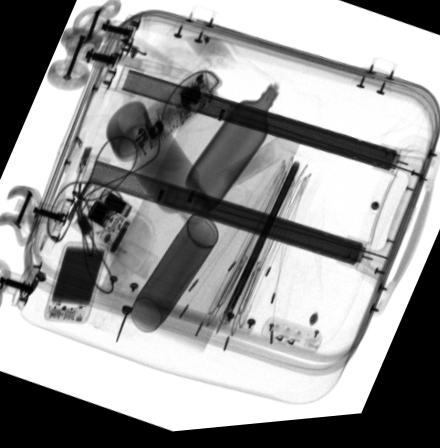Powerbank: (43, 242, 108, 324)
